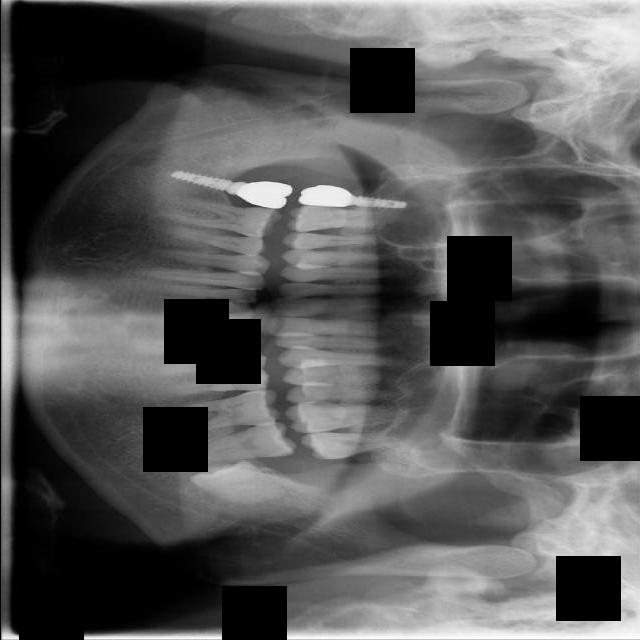52: (235, 174, 293, 212), (297, 184, 351, 208)
73: (60, 601, 69, 612)
BioHorizons Implant: (300, 431, 398, 460)
Biomet 3i Implant: (186, 455, 285, 512)
Blue Sky Bio Implant: (197, 420, 298, 462)
